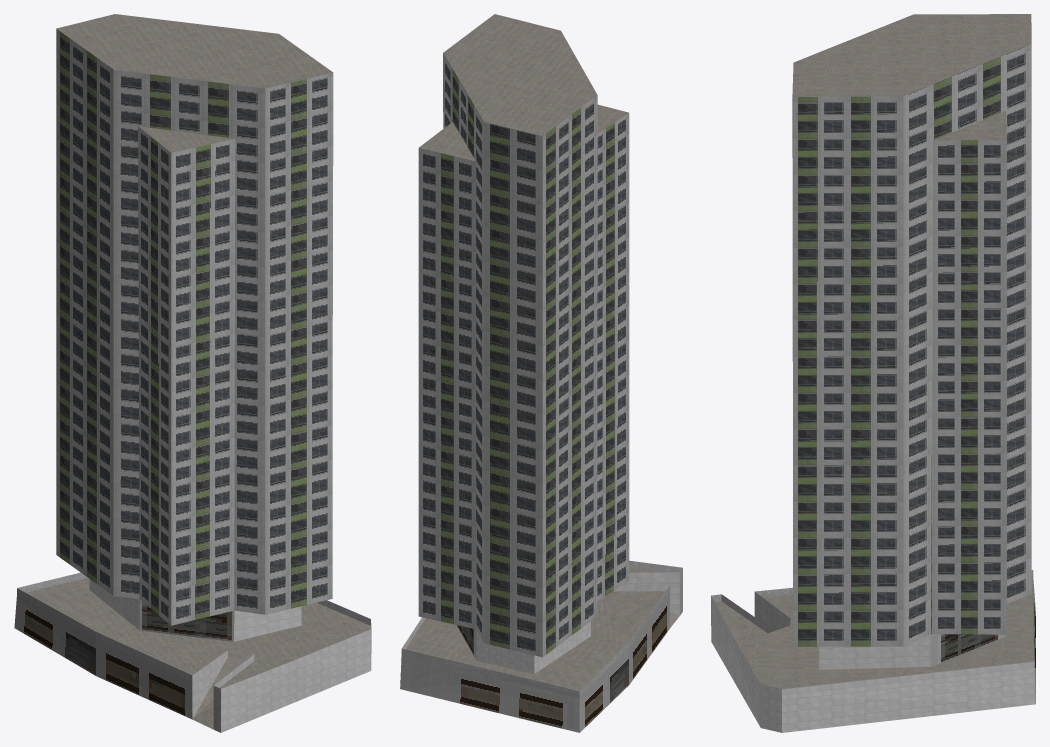
File: lodlsfargo1_lan.obj
3 renders of one model, left to right at view 1: azimuth 30°, elevation 25°; view 2: azimuth 150°, elevation 25°; view 3: azimuth 270°, elevation 25°, orthographic. The views are drawn at different scales.
Visible parts, largest first — view 1: LODlsfargo1_LAn; view 2: LODlsfargo1_LAn; view 3: LODlsfargo1_LAn.
Boxes of the visible parts, x1,y1,x2,y2 form: LODlsfargo1_LAn: (14, 14, 371, 732); LODlsfargo1_LAn: (400, 14, 682, 732); LODlsfargo1_LAn: (711, 14, 1035, 732).
Size of the model in its own units: 46.22 by 112 by 52.94.
4 materials, 4 textured.
